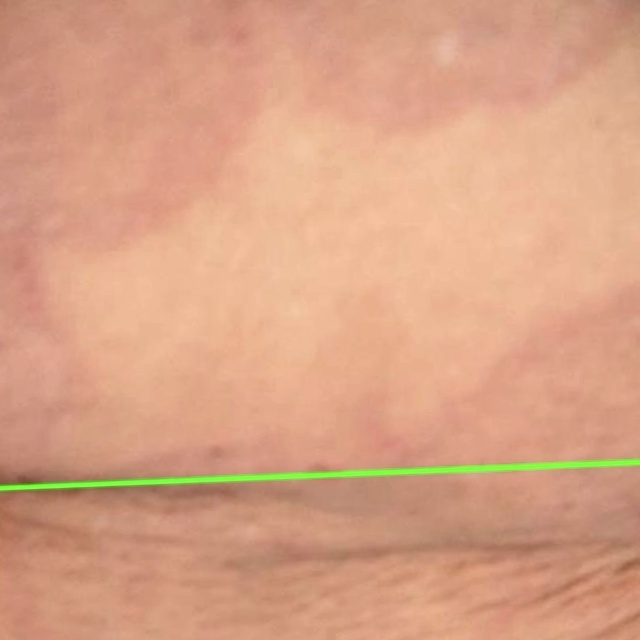Tinea Corporis: (0, 462, 639, 639)
